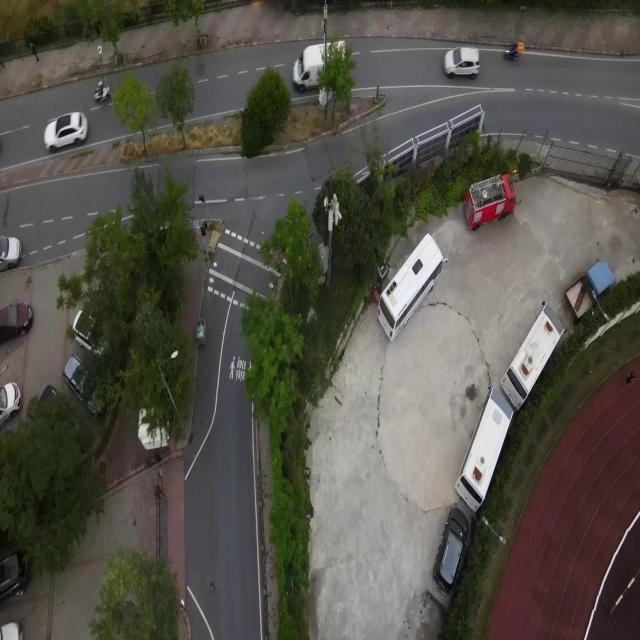p3rson: (624, 367, 638, 387)
